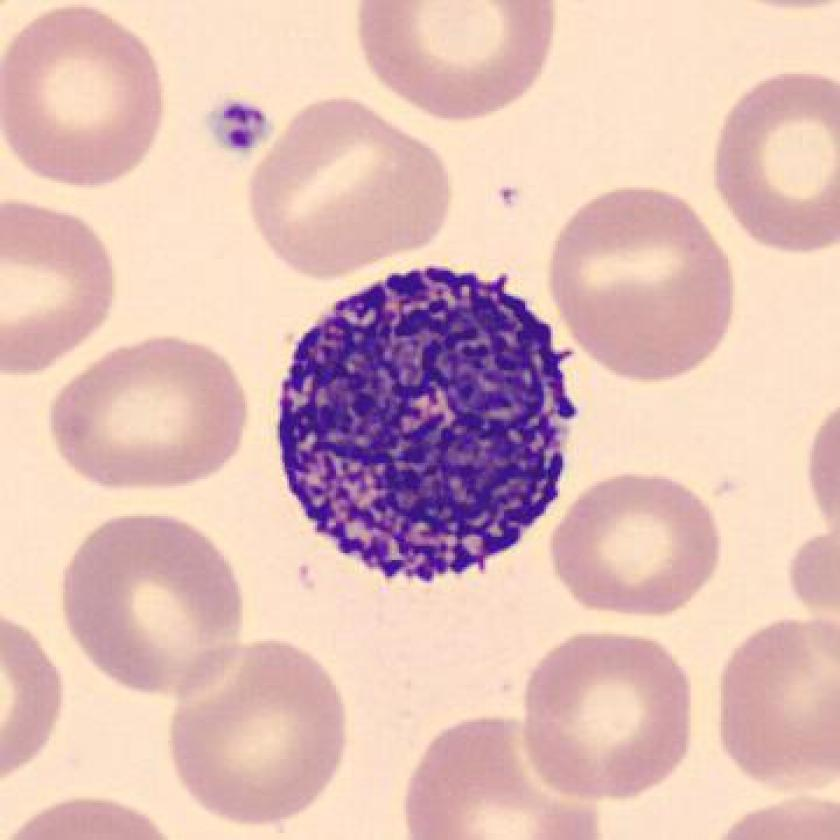basophil: (269, 258, 582, 589)
